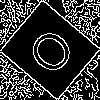O: (24, 25, 85, 84)
